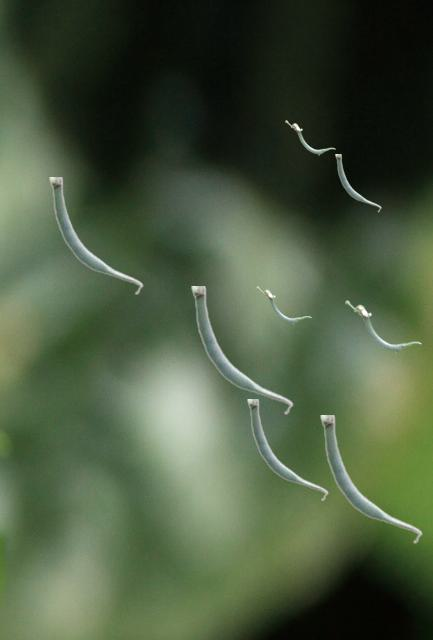french_bean: (320, 415, 421, 543), (191, 286, 292, 414), (49, 177, 142, 294), (247, 399, 327, 500), (345, 300, 420, 352), (335, 154, 380, 211), (256, 286, 310, 323), (285, 120, 334, 154)
